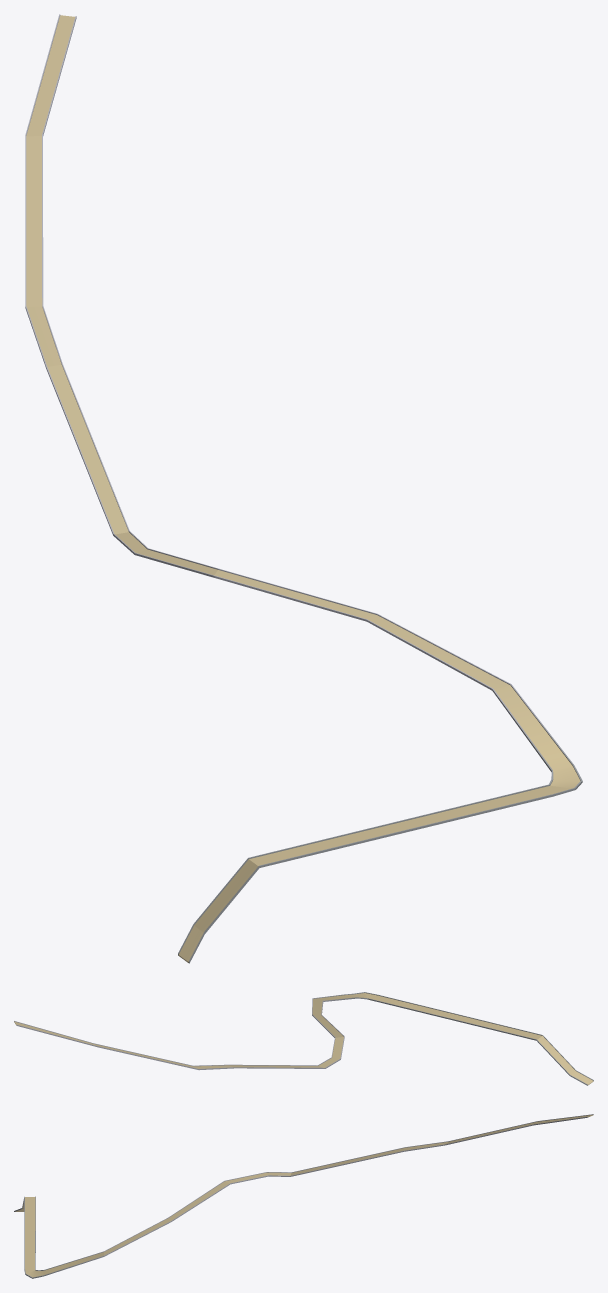
Rendered from sidewalk_28.fbx.
3 views of the same model, one above another, from view 1: azimuth 30°, elevation 25°; view 2: azimuth 150°, elevation 25°; view 3: azimuth 270°, elevation 25° (orthographic). The views are drawn at different scales.
Visible parts, largest first — view 1: sidewalk_27; view 2: sidewalk_27; view 3: sidewalk_27.
Boxes of the visible parts, <box> form: sidewalk_27: <box>25,14,582,963</box>; sidewalk_27: <box>14,992,593,1085</box>; sidewalk_27: <box>14,1114,593,1278</box>.
Size of the model in its own units: 6.98 by 6.01 by 15.21.
1 material, 1 textured.
